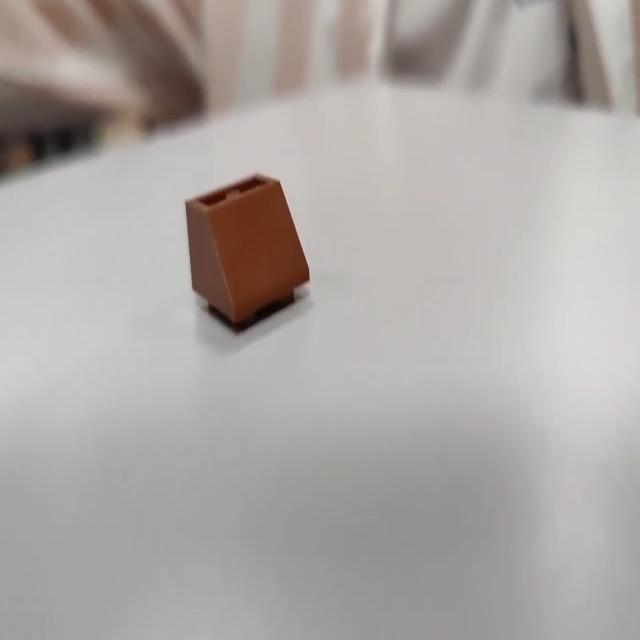X2x2x1: (184, 170, 310, 332)
